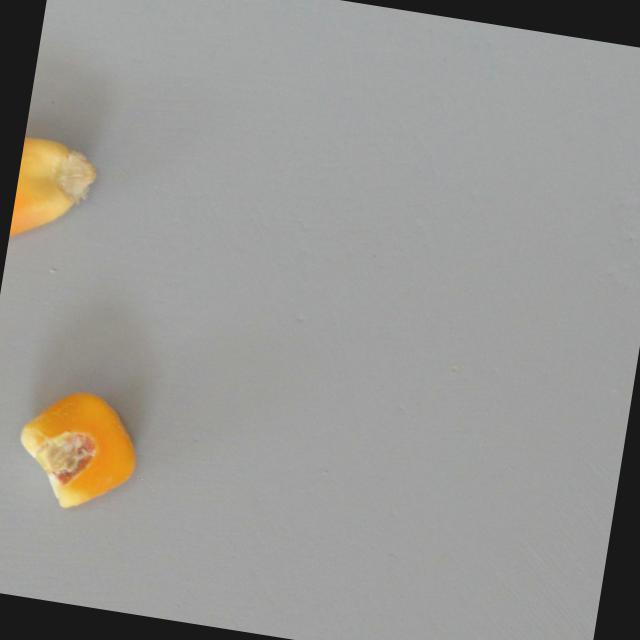dañado: (5, 376, 152, 523)
entero: (7, 123, 103, 260)
